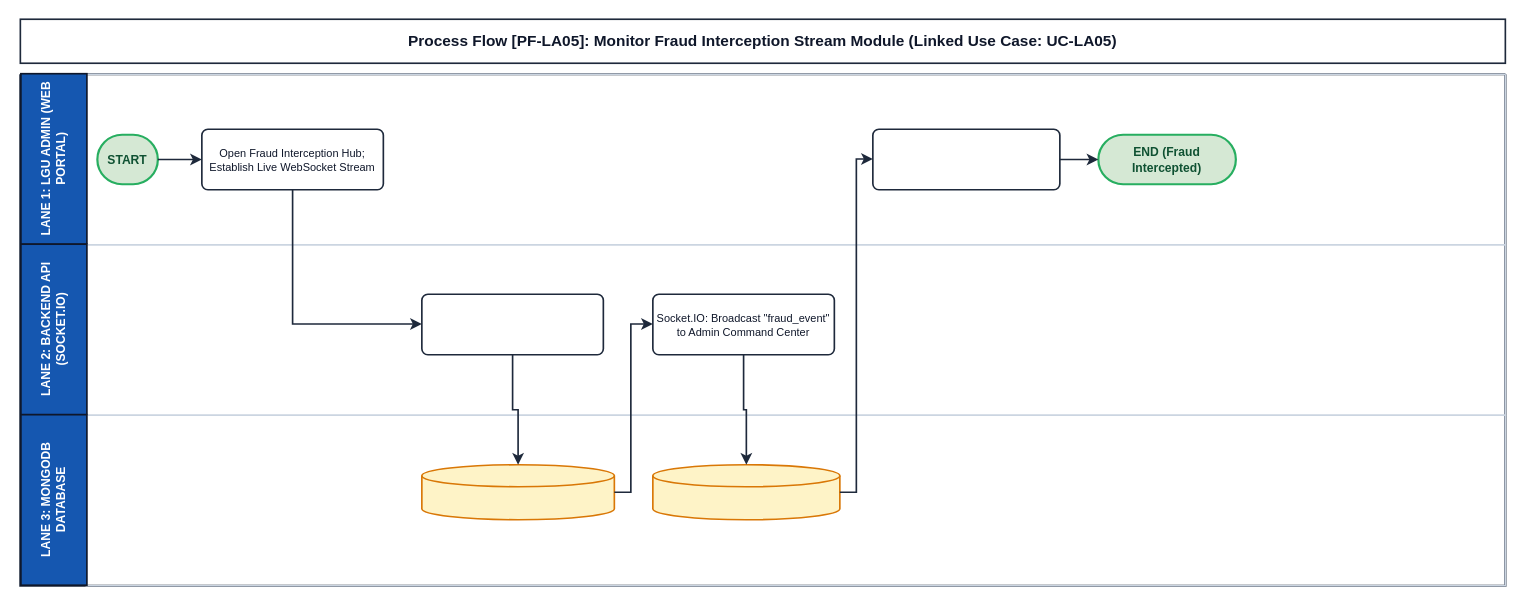
Image size: 1525x606. Some labels were removed from this diagram. The shapes that lost their labels are listed below. From the top down, each one's centre as x and y in pixels, then its label:
(x=966, y=159): Display Red Flashing Incident Card with Officer ID & Beneficiary Details
(x=512, y=324): Field Staff Scanner Submits Duplicate QR Relief Claim
(x=518, y=491): MongoDB: Detect Compound Key Clash (householdId + eventId)
(x=746, y=491): MongoDB: Write Security AuditLog Flagging Attempted Double Claim
